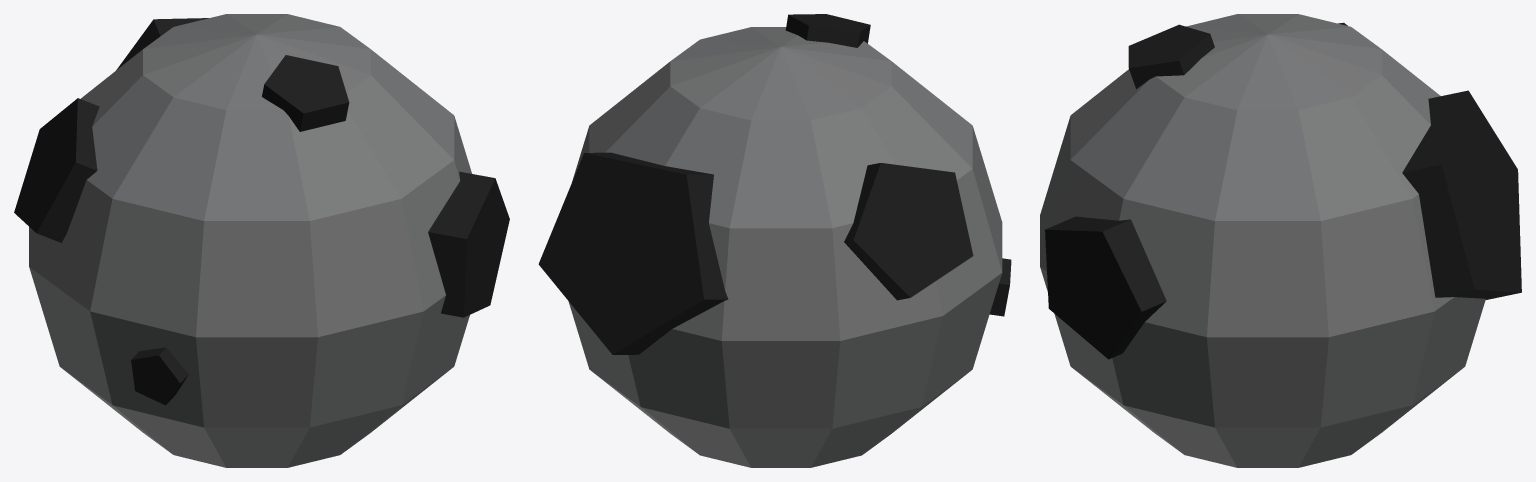
The model's file is AsteroidCarbonFiber.gltf.
The picture shows the model from 3 angles, left to right: view 1: azimuth 30°, elevation 25°; view 2: azimuth 150°, elevation 25°; view 3: azimuth 270°, elevation 25°; orthographic projection. The views are drawn at different scales.
Visible parts, largest first — view 1: AsteroidBody, CarbonFiberFrag5, CarbonFiberFrag2, CarbonFiberFrag1, CarbonFiberFrag4, CarbonFiberFrag3; view 2: AsteroidBody, CarbonFiberFrag3, CarbonFiberFrag2, CarbonFiberFrag1, CarbonFiberFrag4; view 3: AsteroidBody, CarbonFiberFrag3, CarbonFiberFrag5, CarbonFiberFrag1.
Part boxes in pixels (x1,y1,x2,y2): AsteroidBody: (29,14,471,467); CarbonFiberFrag5: (428,171,509,317); CarbonFiberFrag2: (14,98,99,242); CarbonFiberFrag1: (262,55,349,131); CarbonFiberFrag4: (131,347,188,405); CarbonFiberFrag3: (116,18,208,70); AsteroidBody: (568,27,1002,467); CarbonFiberFrag3: (538,152,728,354); CarbonFiberFrag2: (844,163,973,300); CarbonFiberFrag1: (785,14,870,47); CarbonFiberFrag4: (989,258,1011,316); AsteroidBody: (1040,14,1485,467); CarbonFiberFrag3: (1402,90,1521,299); CarbonFiberFrag5: (1045,216,1166,359); CarbonFiberFrag1: (1128,24,1214,89).
Size of the model in its own units: 0.2576 by 0.2504 by 0.2644.
5 materials, 5 textured.
